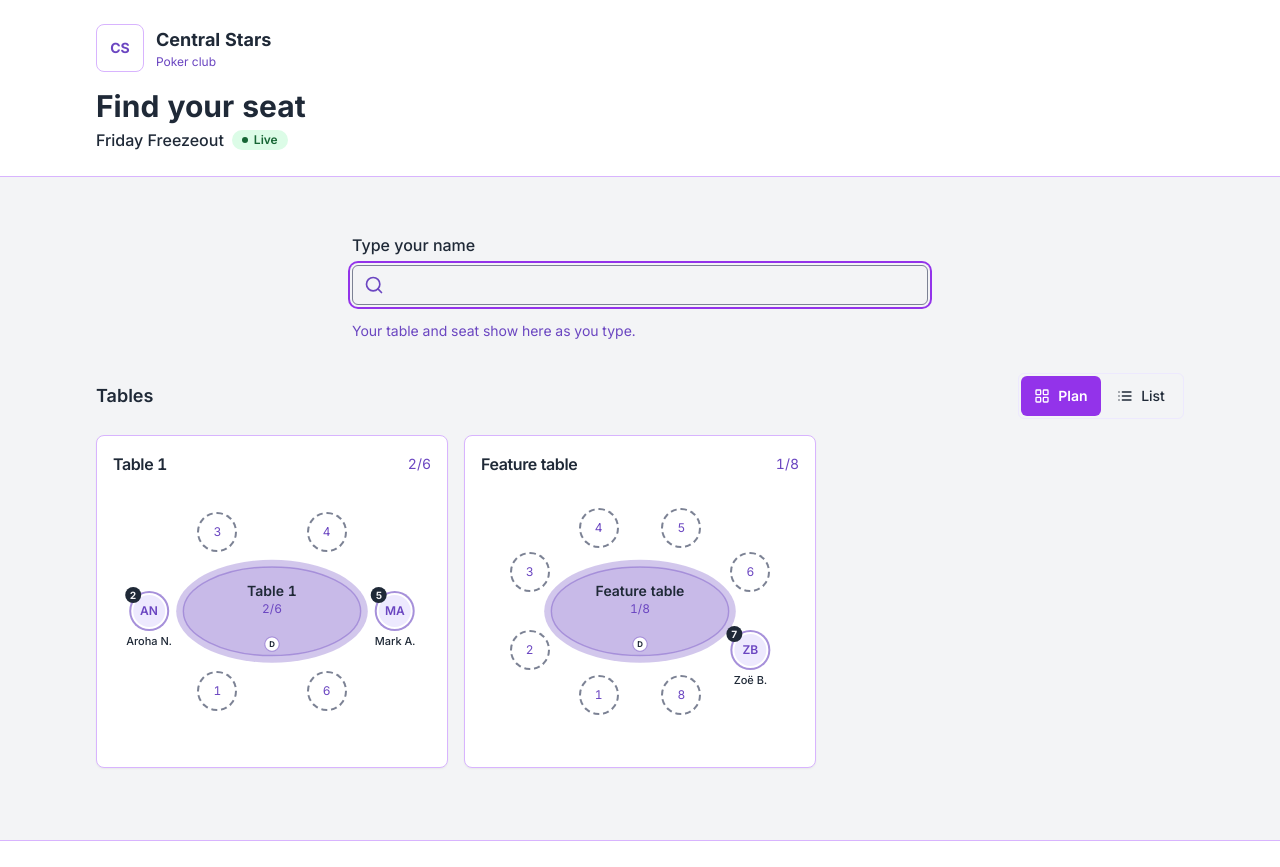
Test case: Find your seat › says when nobody seated has the name, and that some players are still waiting
Step 1. Type "larry" into the search field labelled "Type your name" → x=640, y=285, box [352,265,928,305]
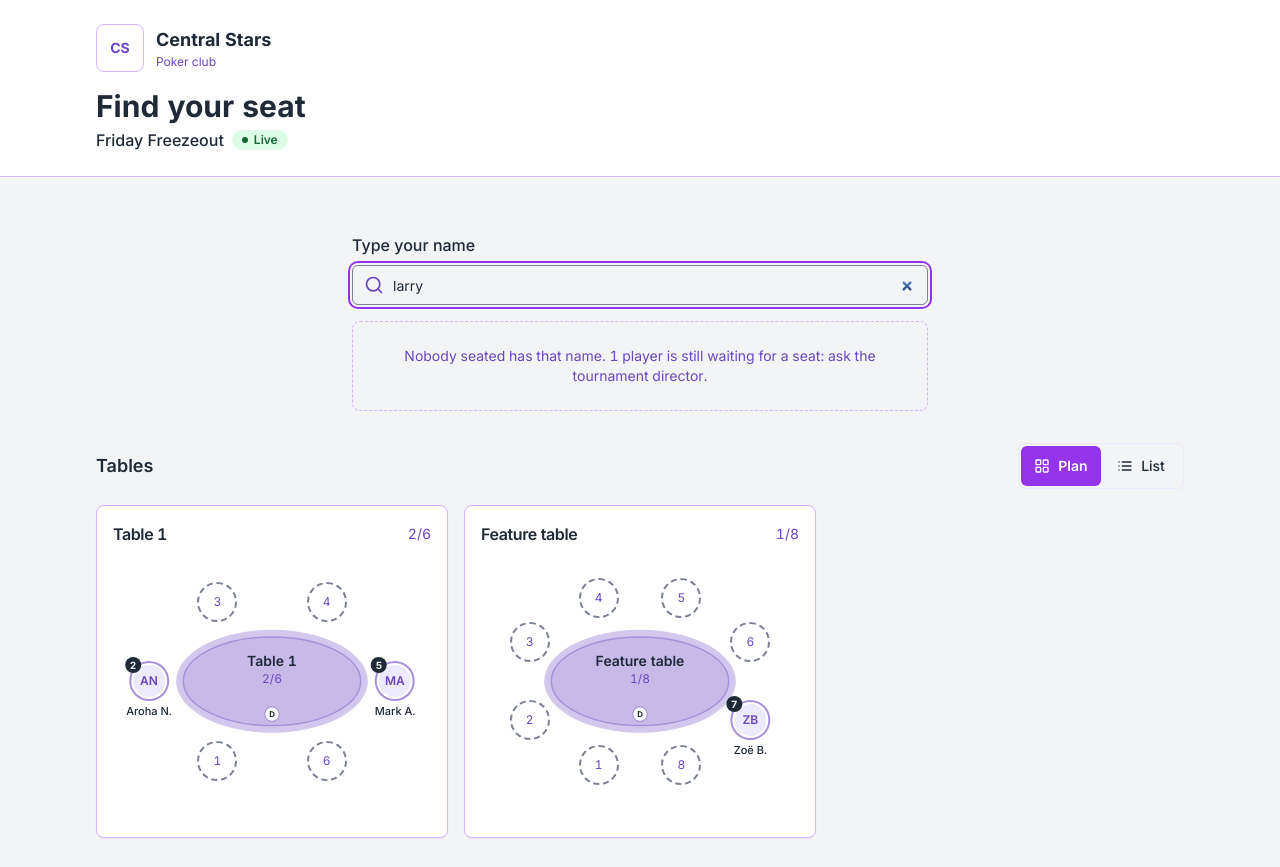
Check: the element with test id "seat-results" shows "Nobody seated has that name. 1 player is still waiting for a seat: ask the tournament director.", box [352,321,928,411]
